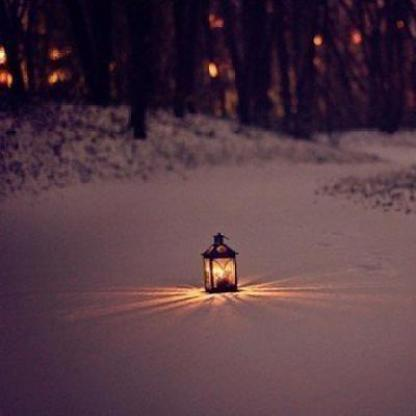other: (176, 258, 274, 302), (0, 44, 14, 92), (206, 62, 230, 86), (43, 68, 65, 86), (348, 28, 362, 48), (310, 30, 324, 46)
